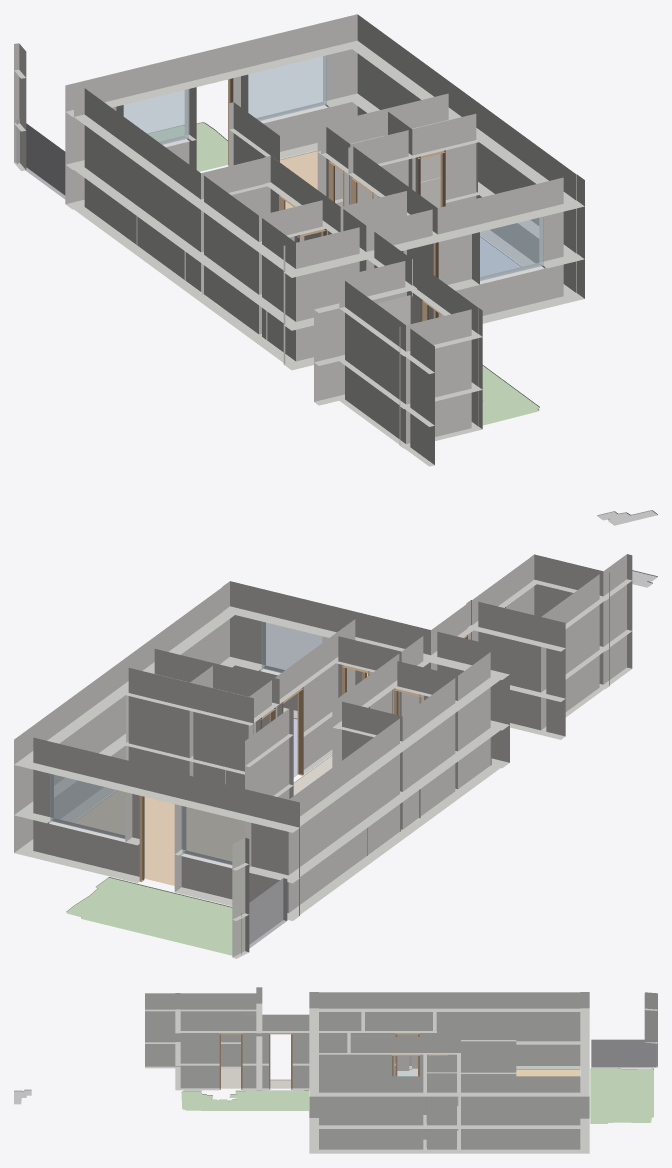
The picture shows the model from 3 angles, top to bottom: view 1: azimuth 30°, elevation 25°; view 2: azimuth 150°, elevation 25°; view 3: azimuth 270°, elevation 25°; orthographic projection. The views are drawn at different scales.
Parts seen in each view (by area): view 1: walls, window_3, window_0, window_1, railings, floor_11_Outdoor, floor_10_Outdoor, furniture_0_closet, floor_1_Living_Room, floor_6_Bed_Room, furniture_2_closet; view 2: walls, floor_10_Outdoor, floor_1_Living_Room, window_3, window_1, window_0, railings, door_6; view 3: walls, floor_10_Outdoor, floor_11_Outdoor, railings, floor_0_Kitchen, floor_9_Storage, door_5, door_11.
Boxes of the visible parts, box(x1,y1,x2,y2) form: walls: box(14, 14, 584, 466); window_3: box(248, 52, 326, 120); window_0: box(480, 213, 543, 280); window_1: box(123, 89, 188, 144); railings: box(16, 119, 65, 199); floor_11_Outdoor: box(482, 365, 539, 425); floor_10_Outdoor: box(147, 122, 227, 171); furniture_0_closet: box(420, 143, 477, 207); floor_1_Living_Room: box(280, 150, 317, 208); floor_6_Bed_Room: box(480, 236, 521, 276); furniture_2_closet: box(377, 295, 420, 325); walls: box(14, 554, 632, 958); floor_10_Outdoor: box(66, 877, 232, 955); floor_1_Living_Room: box(73, 790, 243, 885); window_3: box(50, 774, 125, 838); window_1: box(182, 806, 244, 865); window_0: box(261, 618, 326, 672); railings: box(235, 878, 287, 957); door_6: box(282, 687, 303, 775); walls: box(145, 987, 657, 1153); floor_10_Outdoor: box(590, 1068, 653, 1123); floor_11_Outdoor: box(181, 1090, 308, 1110); railings: box(591, 1039, 655, 1068); floor_0_Kitchen: box(516, 1069, 579, 1076); floor_9_Storage: box(221, 1068, 240, 1088); door_5: box(219, 1033, 242, 1089); door_11: box(269, 1033, 292, 1089).
Size of the model in its own units: 7.34 by 2.72 by 21.46.
